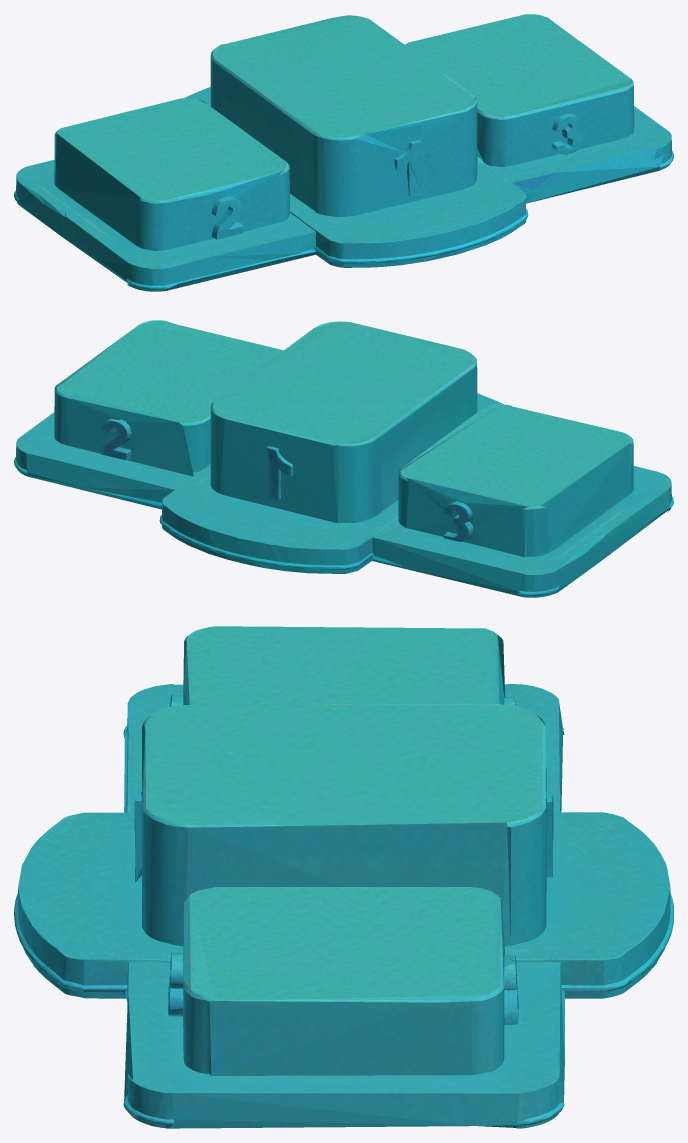
File: podium.glb
3 renders of one model, top to bottom at view 1: azimuth 30°, elevation 25°; view 2: azimuth 150°, elevation 25°; view 3: azimuth 270°, elevation 25°, orthographic. The views are drawn at different scales.
Bounding box in the file's own units: 1.9 × 0.3471 × 1.29.
1 material, 1 textured.
